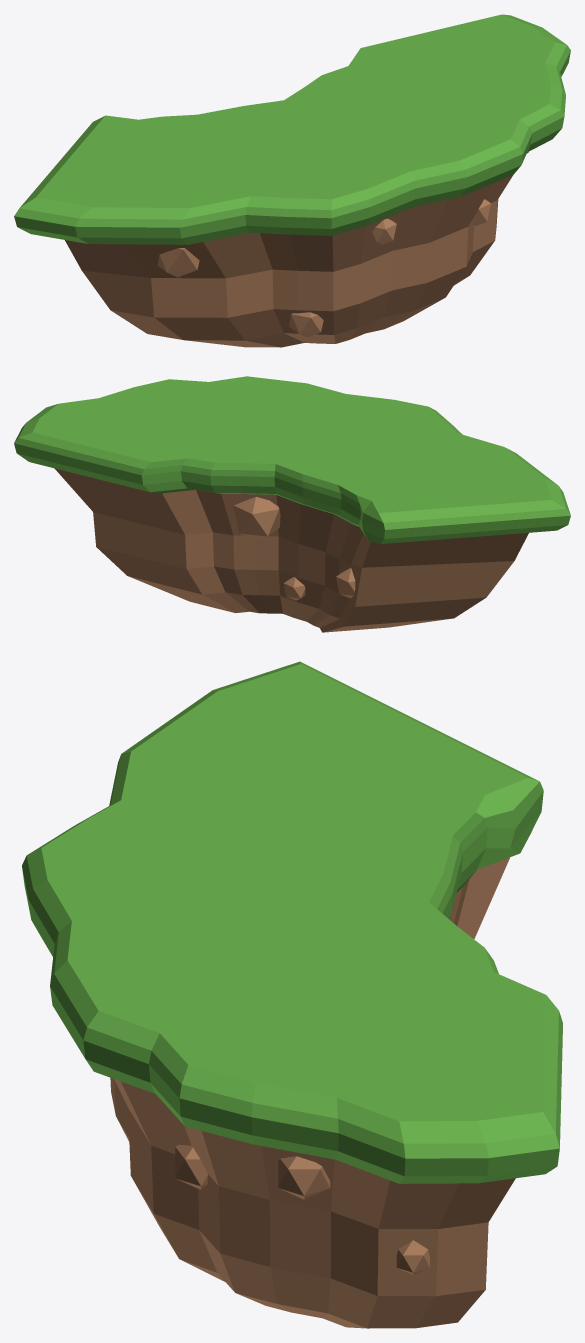
Rendered from Island-Rainbow.fbx.
The picture shows the model from 3 angles, top to bottom: view 1: azimuth 30°, elevation 25°; view 2: azimuth 150°, elevation 25°; view 3: azimuth 270°, elevation 25°; orthographic projection. The views are drawn at different scales.
Visible parts, largest first — view 1: Grass, Soil, Icosphere.005, Icosphere.007, Icosphere.004; view 2: Grass, Soil, Icosphere.001, Icosphere.002, Icosphere.003; view 3: Grass, Soil, Icosphere.008, Icosphere.006, Icosphere.009.
Part boxes in pixels (x1=…): Grass: x1=14, y1=14, x2=570, y2=244; Soil: x1=65, y1=152, x2=527, y2=347; Icosphere.005: x1=157, y1=248, x2=199, y2=277; Icosphere.007: x1=289, y1=312, x2=323, y2=337; Icosphere.004: x1=371, y1=218, x2=396, y2=244; Grass: x1=14, y1=376, x2=570, y2=543; Soil: x1=54, y1=468, x2=528, y2=632; Icosphere.001: x1=233, y1=497, x2=280, y2=540; Icosphere.002: x1=336, y1=567, x2=355, y2=598; Icosphere.003: x1=283, y1=577, x2=305, y2=600; Grass: x1=22, y1=661, x2=562, y2=1183; Soil: x1=110, y1=857, x2=515, y2=1328; Icosphere.008: x1=278, y1=1156, x2=330, y2=1199; Icosphere.006: x1=175, y1=1144, x2=207, y2=1189; Icosphere.009: x1=396, y1=1240, x2=429, y2=1274.
Size of the model in its own units: 1556 by 490 by 726.
